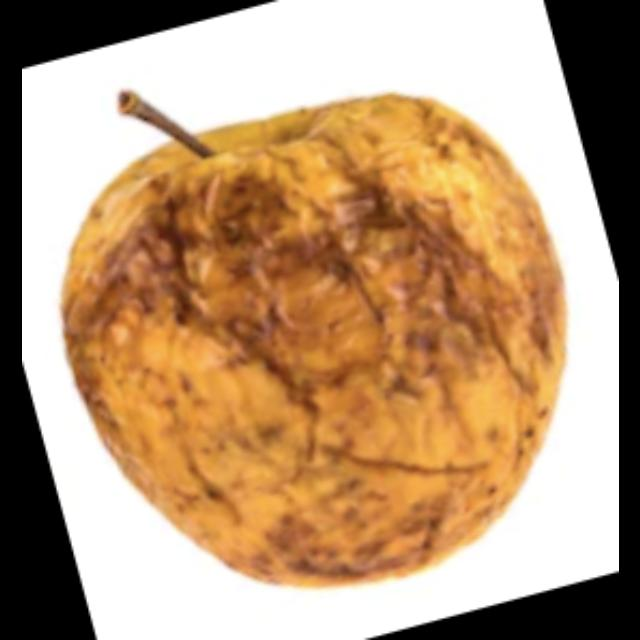Apel Tidak Segar: (60, 76, 578, 588)
